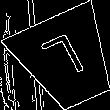L_SE: (39, 31, 93, 89)
